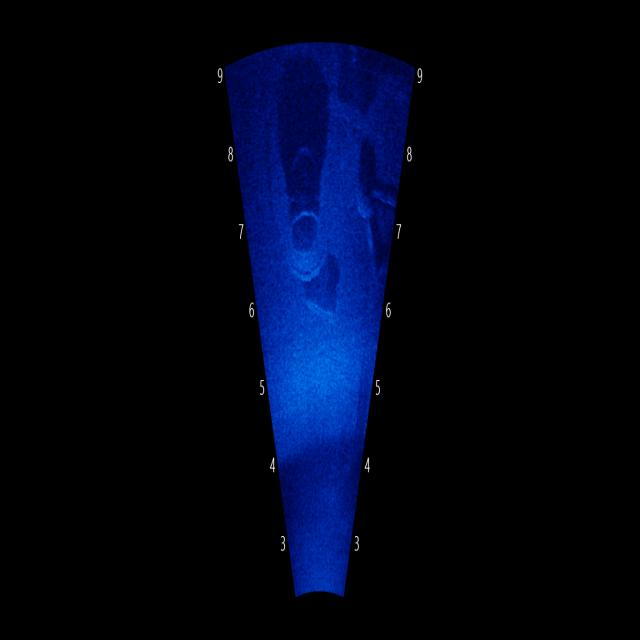circle: (282, 175, 333, 290)
